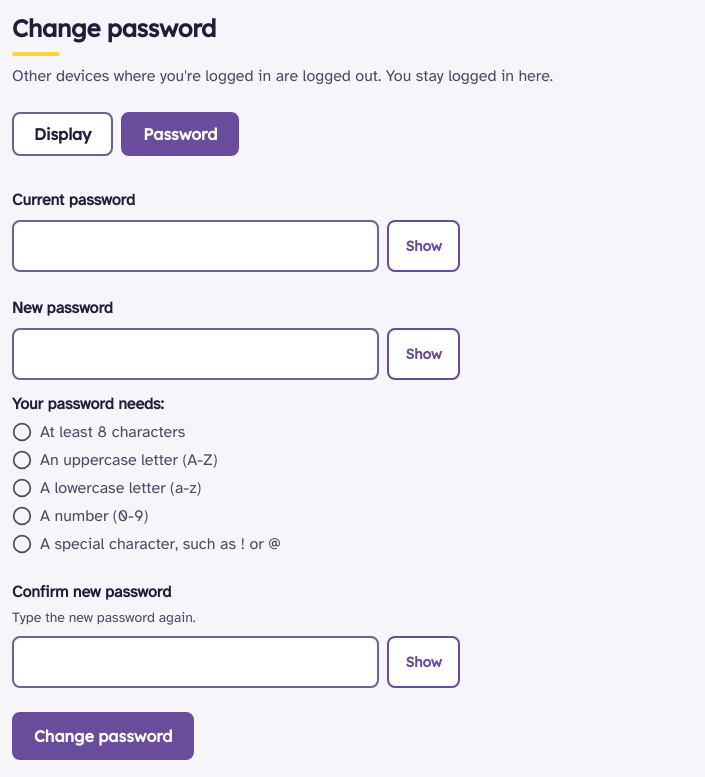
Test: ChangePasswordPage › changes the password and reloads the user
In the password field labelled "Current password": (196, 246) x1=12 y1=220 x2=379 y2=272, type "Password@123"
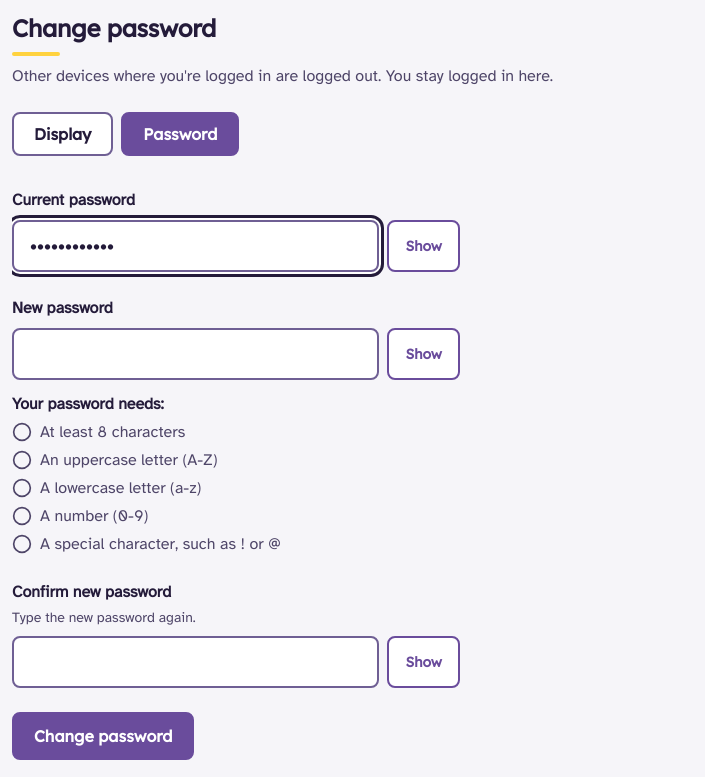
In the password field labelled "New password": (196, 354) x1=12 y1=328 x2=379 y2=380, type "Better@2026"
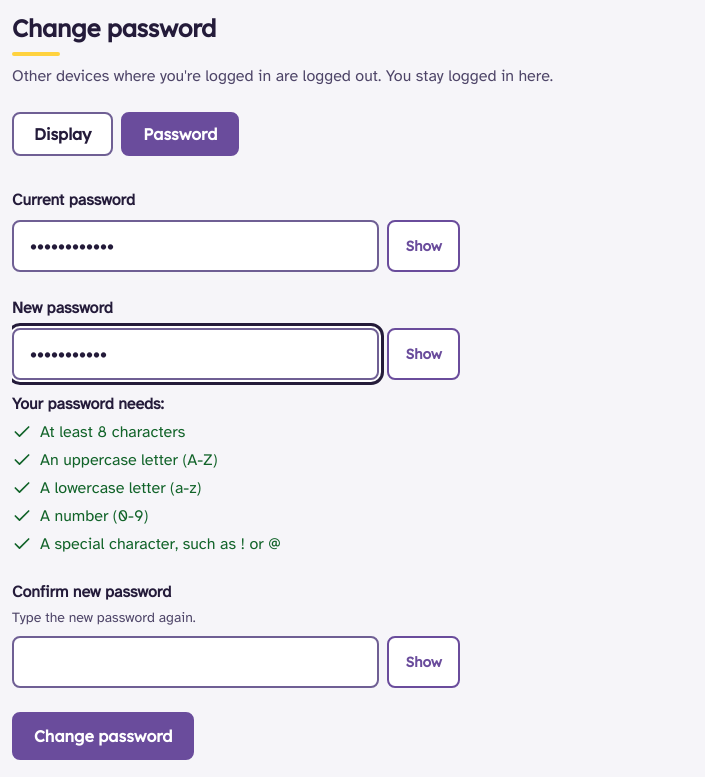
In the password field labelled "Confirm new password": (196, 662) x1=12 y1=636 x2=379 y2=688, type "Better@2026"
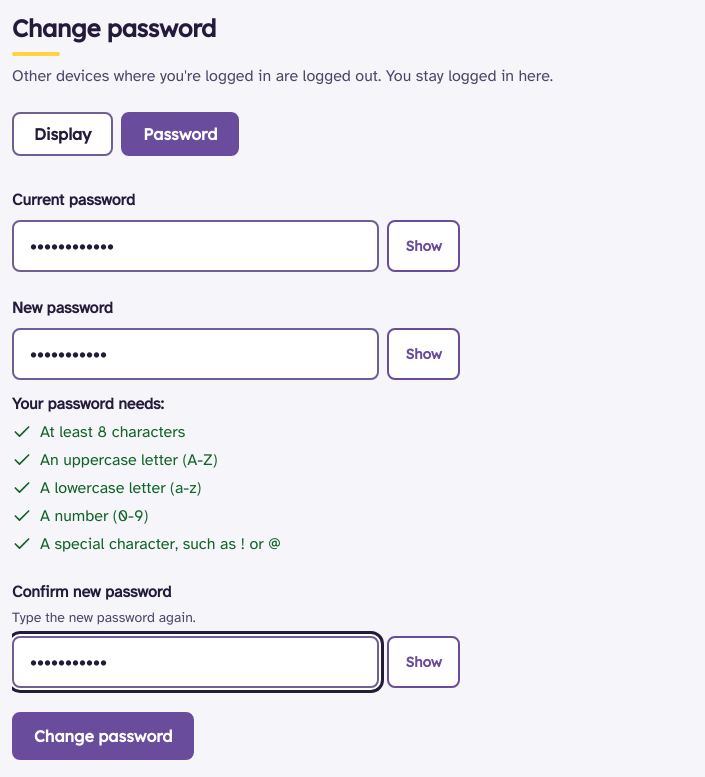
Click the button "Change password": (103, 736) x1=12 y1=712 x2=194 y2=760
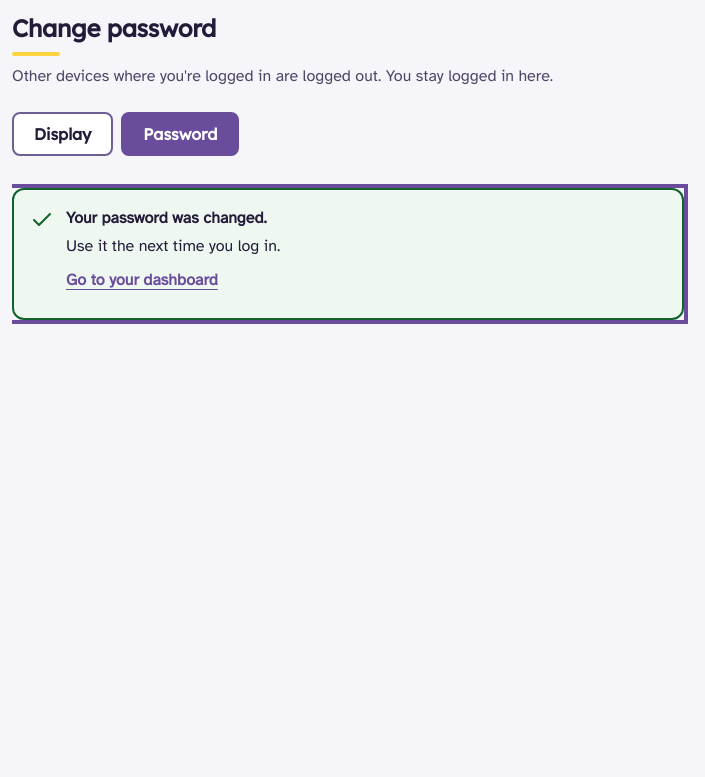
Result: the text "Your password was changed." is shown at x1=66 y1=206 x2=280 y2=230
